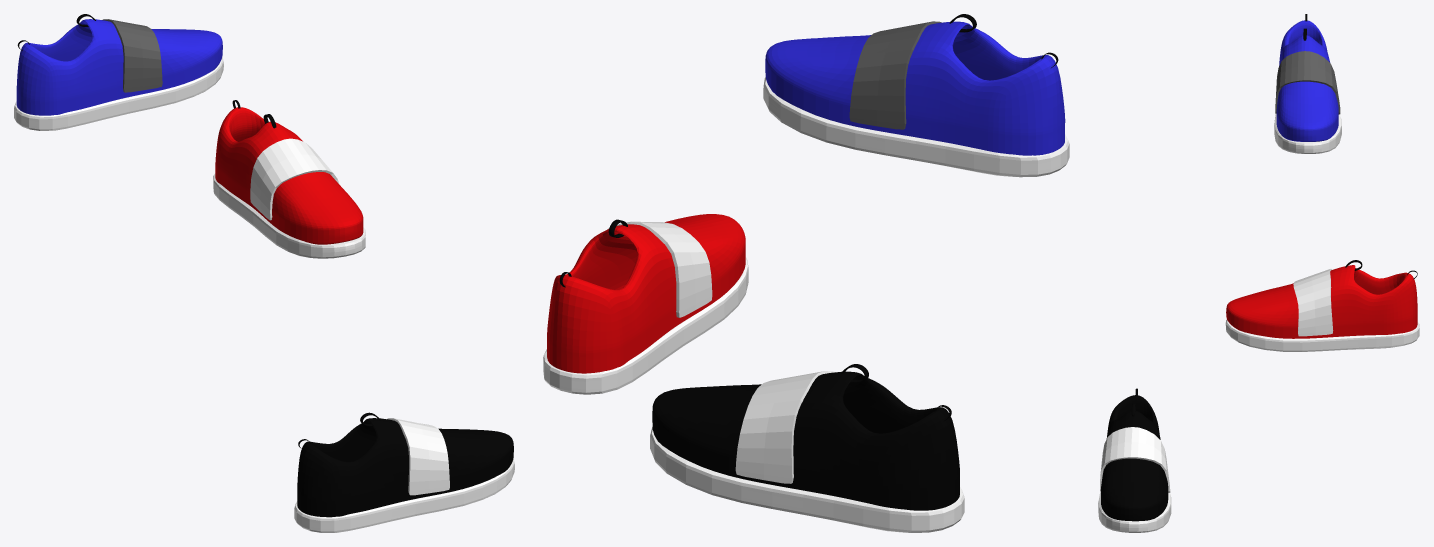
The model's file is TigaSepatu.glb.
The picture shows the model from 3 angles, left to right: view 1: azimuth 30°, elevation 25°; view 2: azimuth 150°, elevation 25°; view 3: azimuth 270°, elevation 25°; orthographic projection. The views are drawn at different scales.
Parts seen in each view (by area): view 1: 01_shoes, 03_shoes, 02_shoes; view 2: 01_shoes, 03_shoes, 02_shoes; view 3: 02_shoes, 01_shoes, 03_shoes.
Part boxes in pixels (<box>): 01_shoes: <box>294,412,514,532</box>; 03_shoes: <box>14,14,223,130</box>; 02_shoes: <box>213,100,365,258</box>; 01_shoes: <box>650,364,964,532</box>; 03_shoes: <box>763,14,1069,177</box>; 02_shoes: <box>543,214,748,394</box>; 02_shoes: <box>1225,260,1419,351</box>; 01_shoes: <box>1098,388,1171,532</box>; 03_shoes: <box>1274,14,1341,153</box>.
Size of the model in its own units: 4.64 by 5.27 by 4.01.
